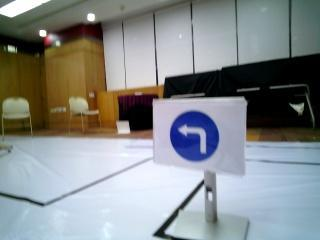left: (155, 100, 242, 169)
